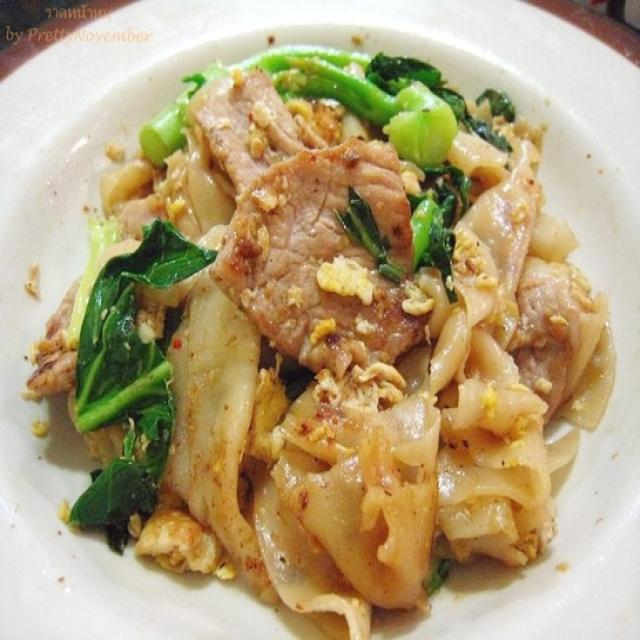面条主食: (38, 48, 612, 612)
